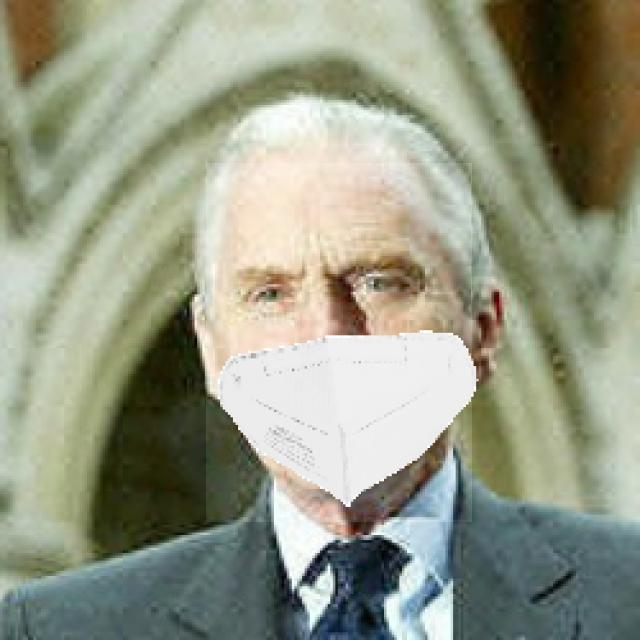kn95: (206, 163, 472, 522)
